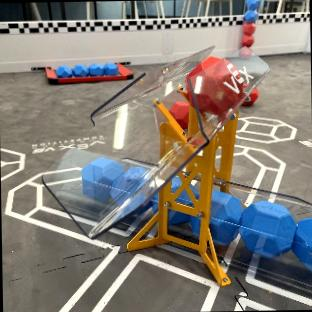V5_BLUE: (240, 200, 295, 255), (209, 190, 241, 243), (82, 157, 121, 199), (114, 166, 146, 199), (292, 218, 312, 270), (55, 61, 118, 77), (244, 0, 258, 21)
V5_RED: (187, 56, 243, 116), (170, 100, 188, 127), (242, 21, 254, 45), (245, 90, 256, 104)
